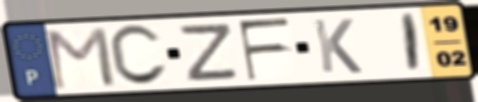C: (105, 23, 171, 89)
F: (235, 15, 294, 83)
I: (400, 11, 422, 75)
K: (310, 17, 365, 75)
M: (44, 25, 119, 91)
Z: (179, 21, 242, 83)
